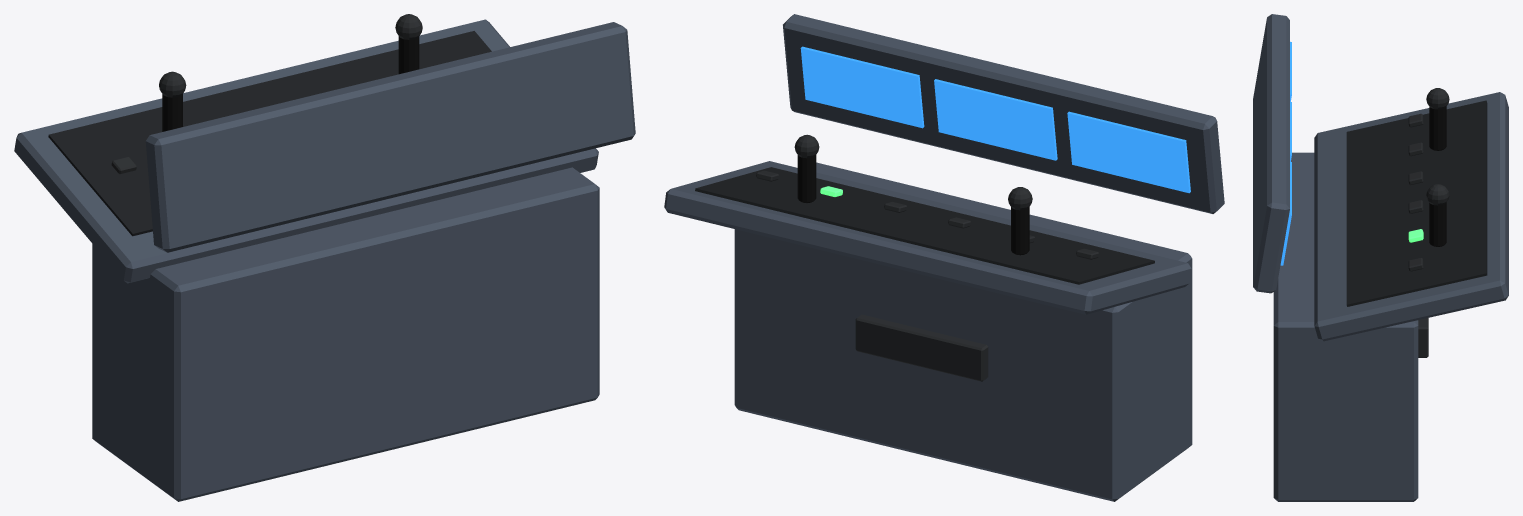
The model's file is helm_console.glb.
3 renders of one model, left to right at view 1: azimuth 30°, elevation 25°; view 2: azimuth 150°, elevation 25°; view 3: azimuth 270°, elevation 25°, orthographic. The views are drawn at different scales.
Parts seen in each view (by area): view 1: helm_console; view 2: helm_console; view 3: helm_console.
Boxes of the visible parts, x1,y1,x2,y2 form: helm_console: (14,14,635,501); helm_console: (664,14,1224,501); helm_console: (1253,14,1508,501).
Bounding box in the file's own units: 1.6 × 1.2 × 0.9.
